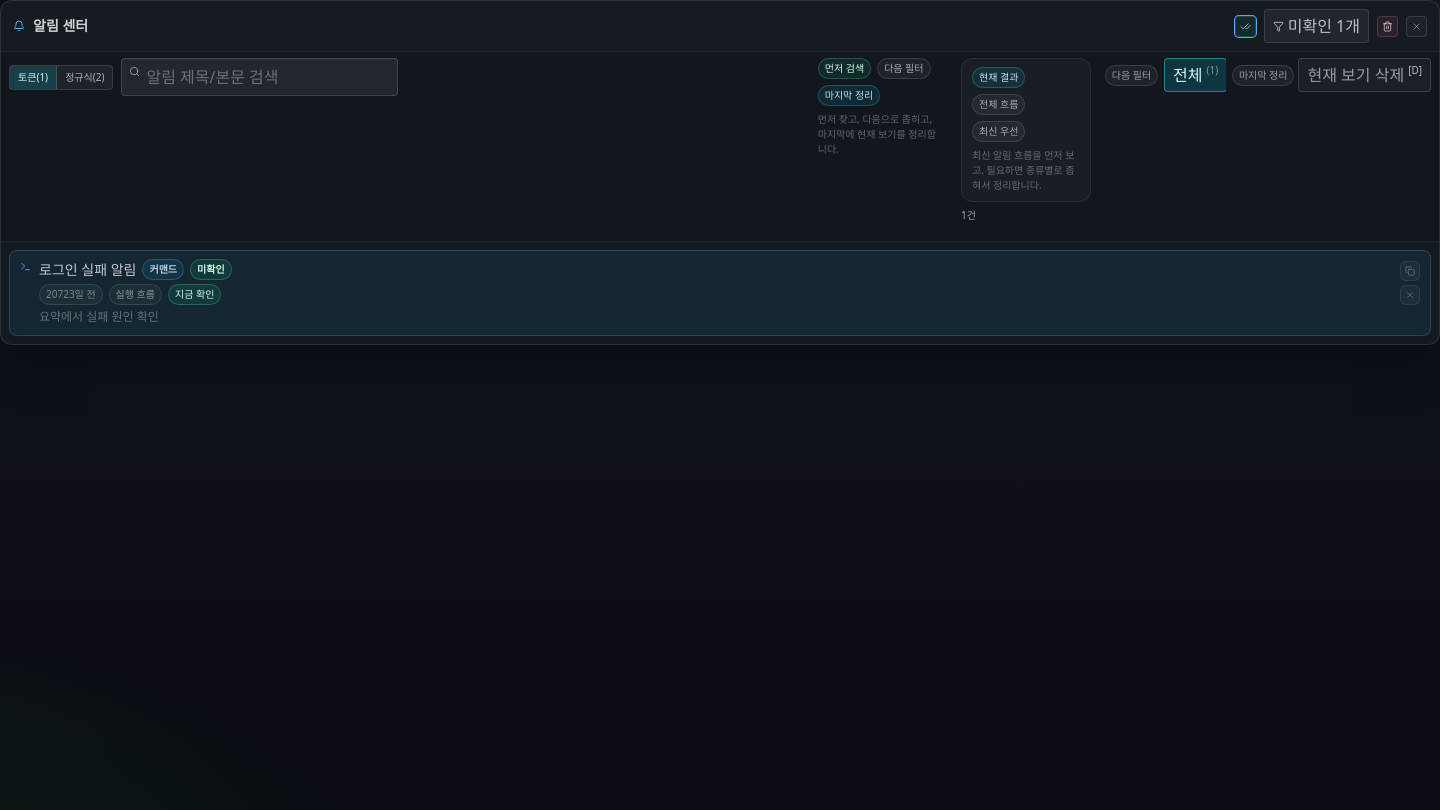
it: NotificationCenter › 닫히지 않은 따옴표 입력 시 검색 경고를 표시한다
Type "\"로그인 실패" into the field named "알림 검색" at (260, 77), box [122, 58, 398, 96]
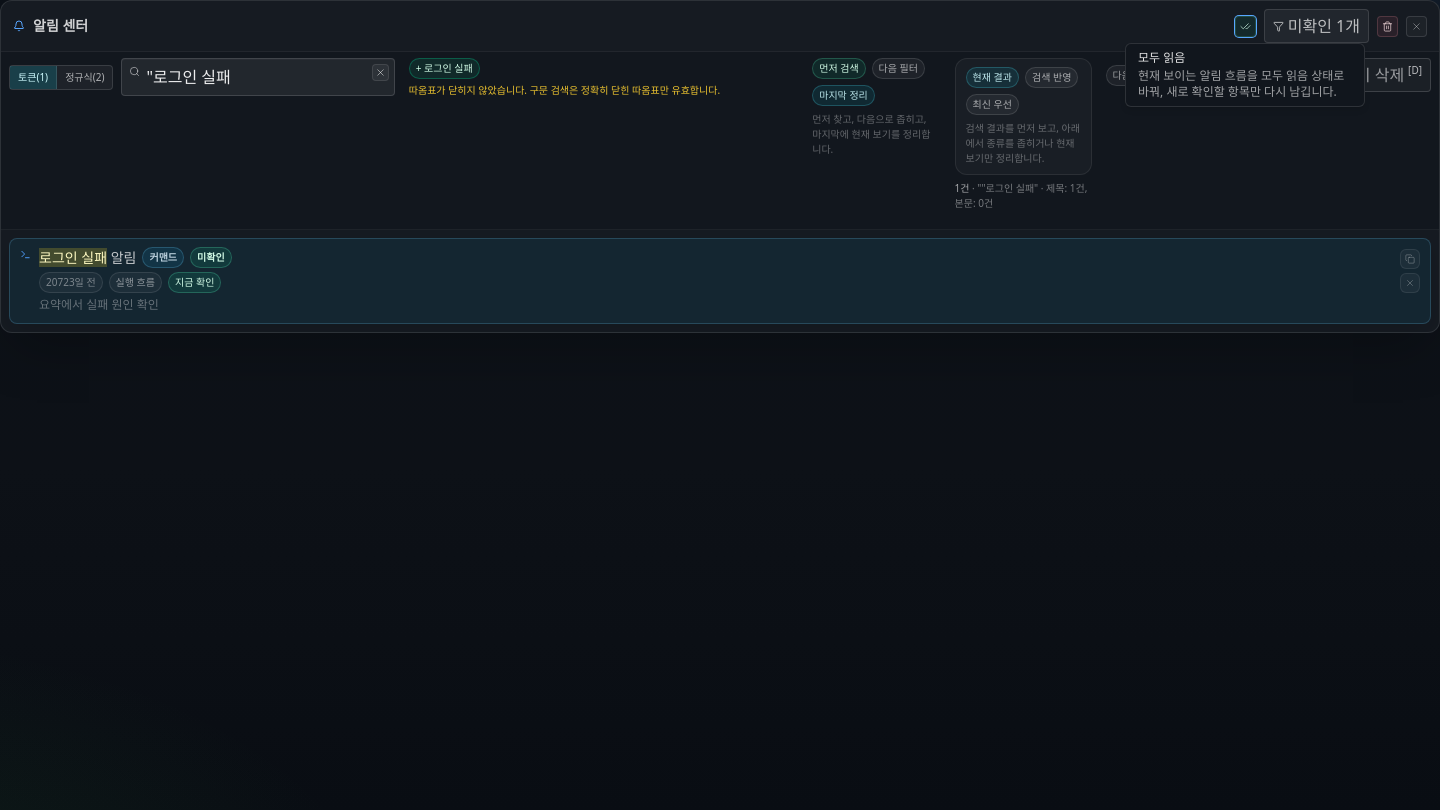
Expected: the text "따옴표가 닫히지 않았습니다. 구문 검색은 정확히 닫힌 따옴표만 유효합니다." is shown, [409, 83, 720, 98]
